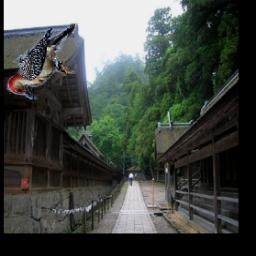Woodpecker: (7, 24, 76, 100)
